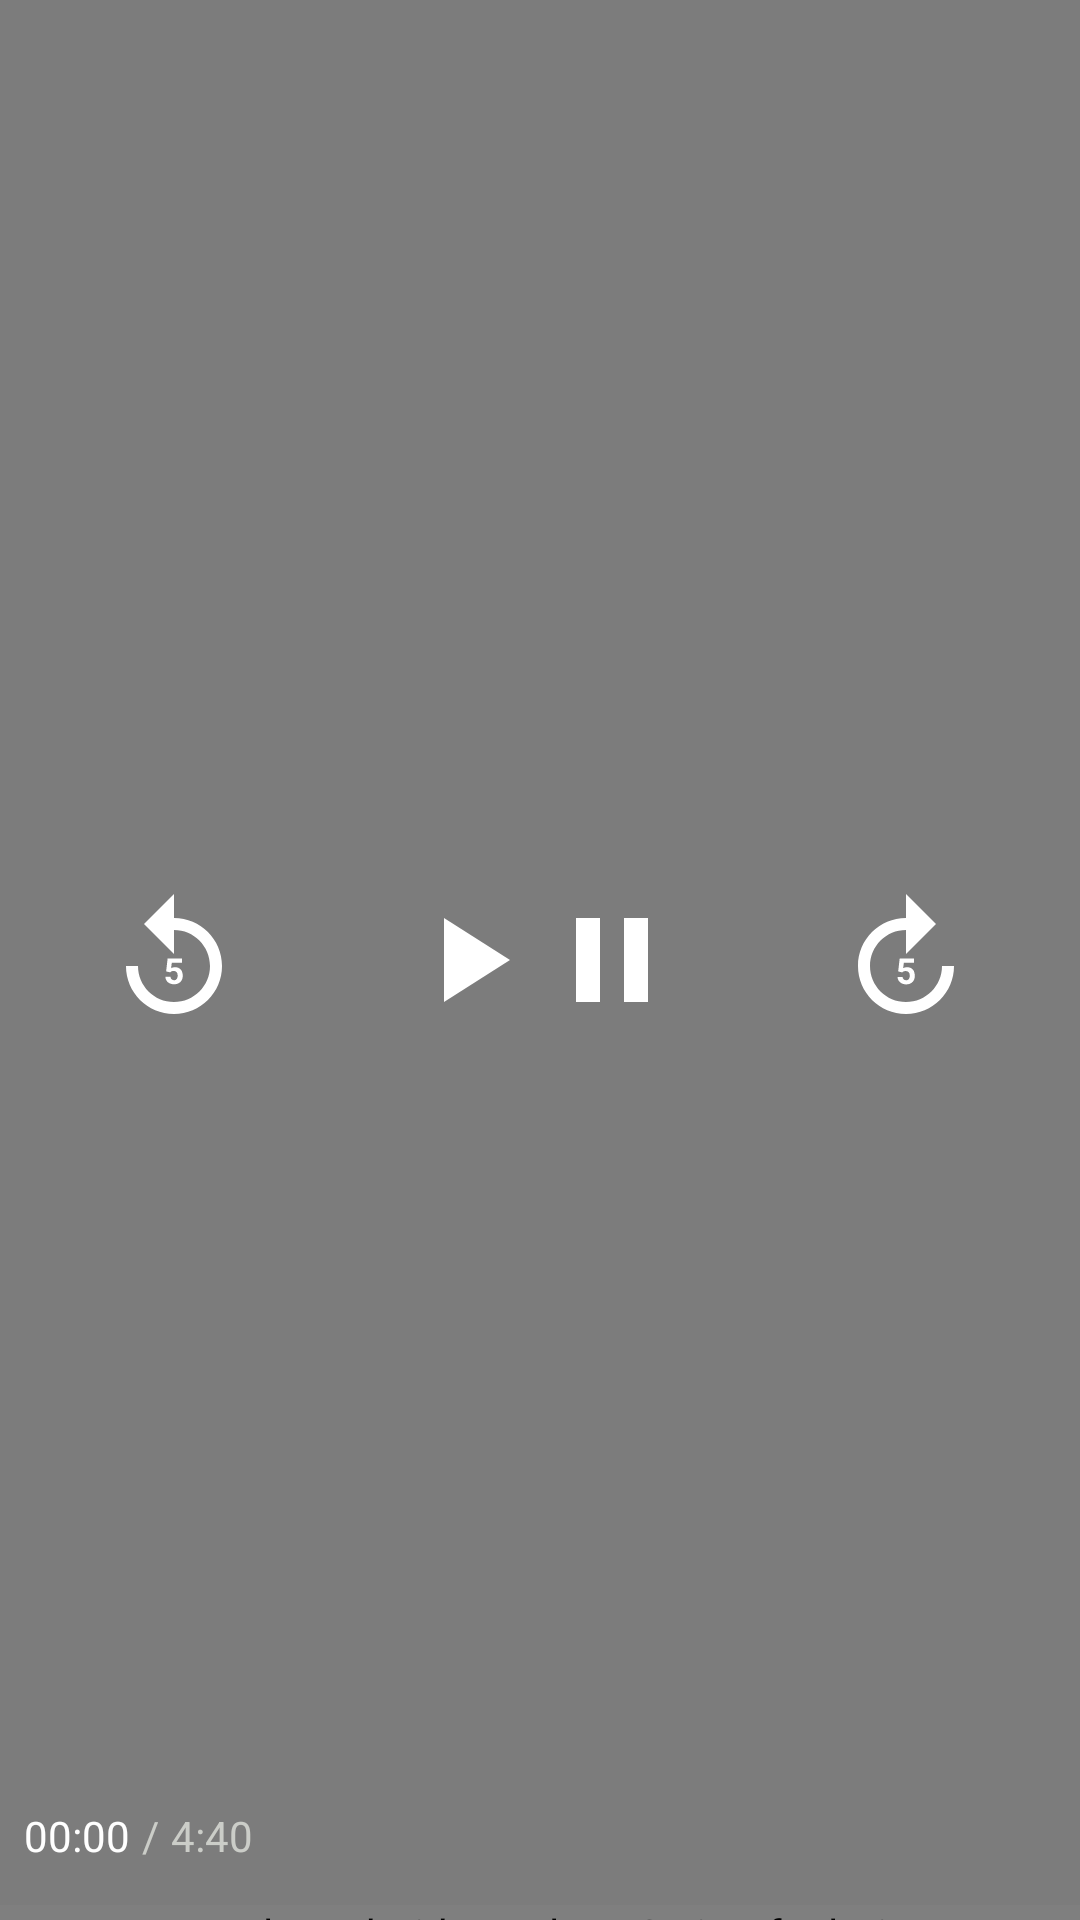

Screen size 1080px×1920px. Icon name, then its box in pixels as (x1, y1, x2, y2):
forward: (858, 894, 954, 1014)
pause: (576, 918, 648, 1002)
play arrow: (444, 918, 510, 1002)
replay: (126, 894, 222, 1014)
